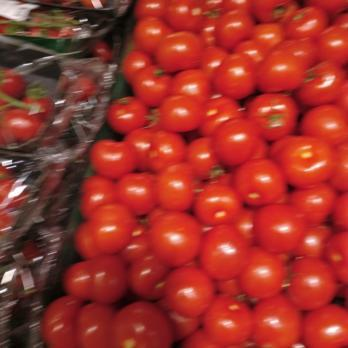Tomato: (129, 3, 348, 348)
